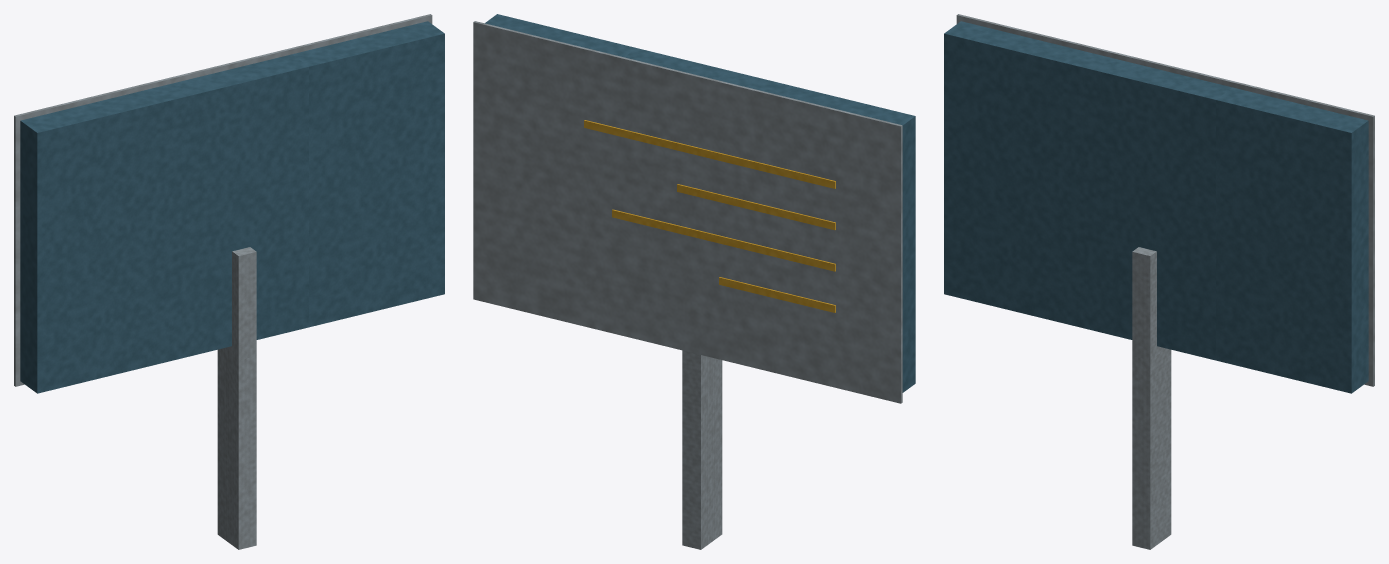
File: PZ_13_ViaductSafetySign.glb
3 views of the same model, side by side, from view 1: azimuth 30°, elevation 25°; view 2: azimuth 150°, elevation 25°; view 3: azimuth 330°, elevation 25° (orthographic). The views are drawn at different scales.
Visible parts, largest first — view 1: SIGN_Plate, SIGN_Bracket, SIGN_EdgeTrim; view 2: SIGN_EdgeTrim, SIGN_Plate, SIGN_Bracket, SIGN_GlyphBar_0, SIGN_GlyphBar_2, SIGN_GlyphBar_1, SIGN_GlyphBar_3; view 3: SIGN_Plate, SIGN_Bracket, SIGN_EdgeTrim.
Part boxes in pixels (<box>): SIGN_Plate: <box>20,21,444,393</box>; SIGN_Bracket: <box>217,247,256,549</box>; SIGN_EdgeTrim: <box>14,14,432,386</box>; SIGN_EdgeTrim: <box>473,21,902,403</box>; SIGN_Plate: <box>485,14,915,392</box>; SIGN_Bracket: <box>682,350,722,549</box>; SIGN_GlyphBar_0: <box>584,120,835,188</box>; SIGN_GlyphBar_2: <box>612,209,835,271</box>; SIGN_GlyphBar_1: <box>677,184,835,230</box>; SIGN_GlyphBar_3: <box>719,277,835,312</box>; SIGN_Plate: <box>944,21,1368,393</box>; SIGN_Bracket: <box>1132,247,1171,549</box>; SIGN_EdgeTrim: <box>956,14,1374,386</box>.
Bounding box in the file's own units: 0.92 × 0.98 × 0.1.
Materials: 3 (3 with a texture image).
